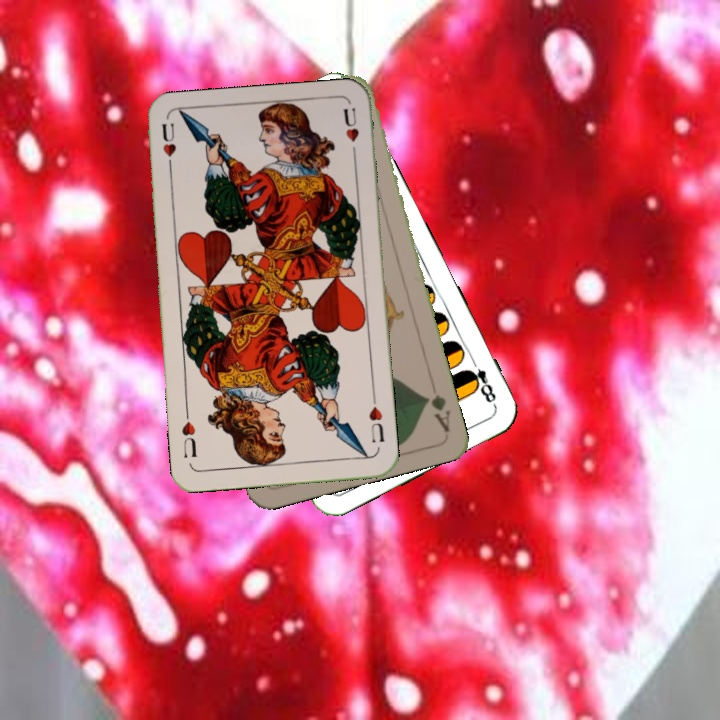E8: (461, 354, 499, 409)
GA: (420, 390, 453, 435)
HU: (157, 119, 178, 176), (365, 402, 387, 446)
